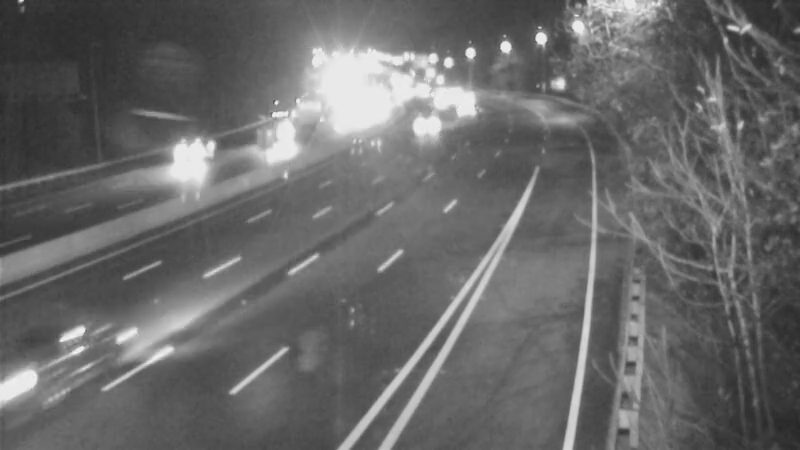vehicle: (1, 320, 100, 430), (139, 115, 219, 195), (410, 78, 460, 128), (440, 88, 490, 138), (395, 101, 445, 151), (249, 109, 299, 159)
